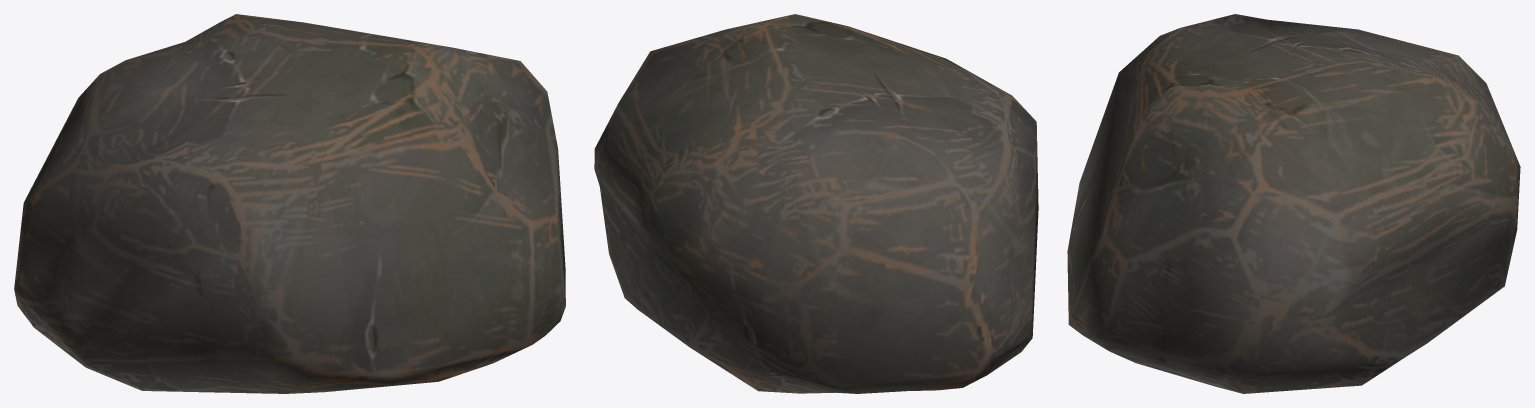
Rendered from rock.glb.
The picture shows the model from 3 angles, left to right: view 1: azimuth 30°, elevation 25°; view 2: azimuth 150°, elevation 25°; view 3: azimuth 270°, elevation 25°; orthographic projection. The views are drawn at different scales.
Parts seen in each view (by area): view 1: Object_2; view 2: Object_2; view 3: Object_2.
Boxes of the visible parts, x1,y1,x2,y2 form: Object_2: (14,14,565,393); Object_2: (594,14,1038,393); Object_2: (1067,14,1520,393).
Size of the model in its own units: 0.9015 by 0.531 by 0.778.
1 material, 1 textured.
